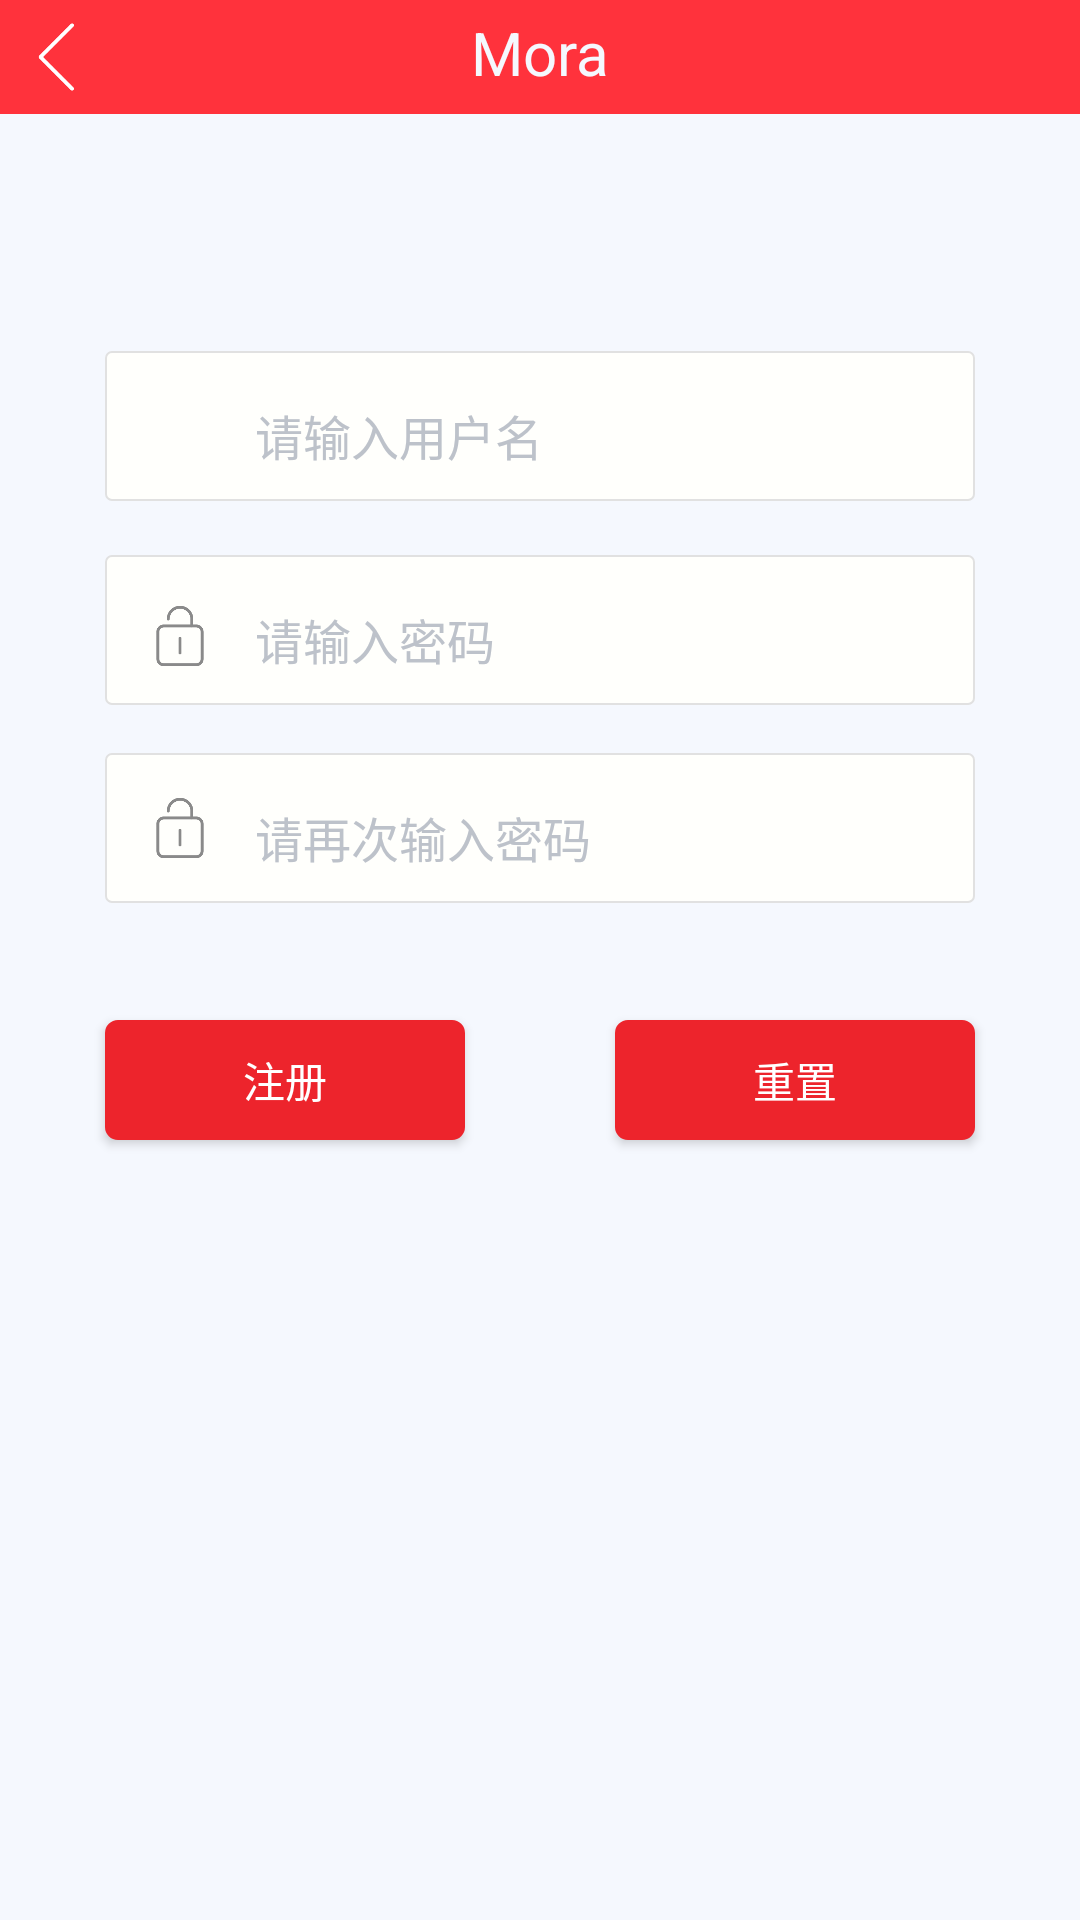

Where icons sit on this 1080 x 1920 app screen, as box(x1, y1, x2, y2):
back: box(39, 23, 74, 91)
